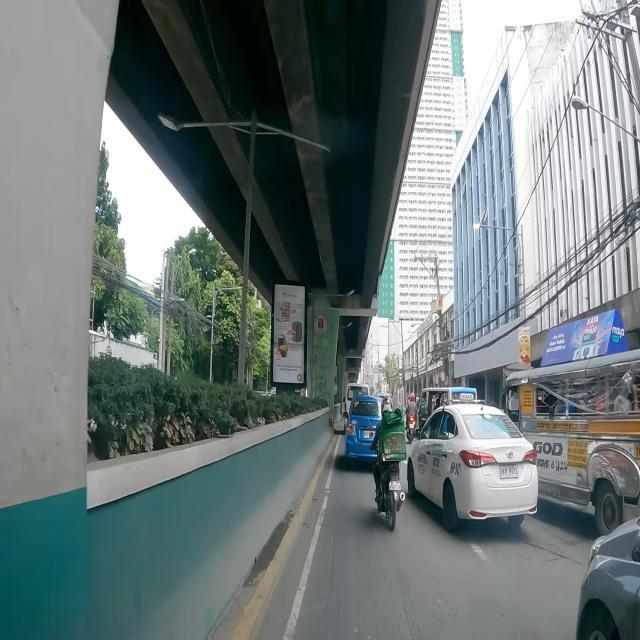car: (407, 393, 538, 530), (575, 516, 640, 640), (344, 396, 382, 464)
jeepney: (505, 350, 640, 535)
motorcycle: (370, 397, 406, 530), (405, 393, 417, 443)
tricycle: (419, 386, 477, 428)
